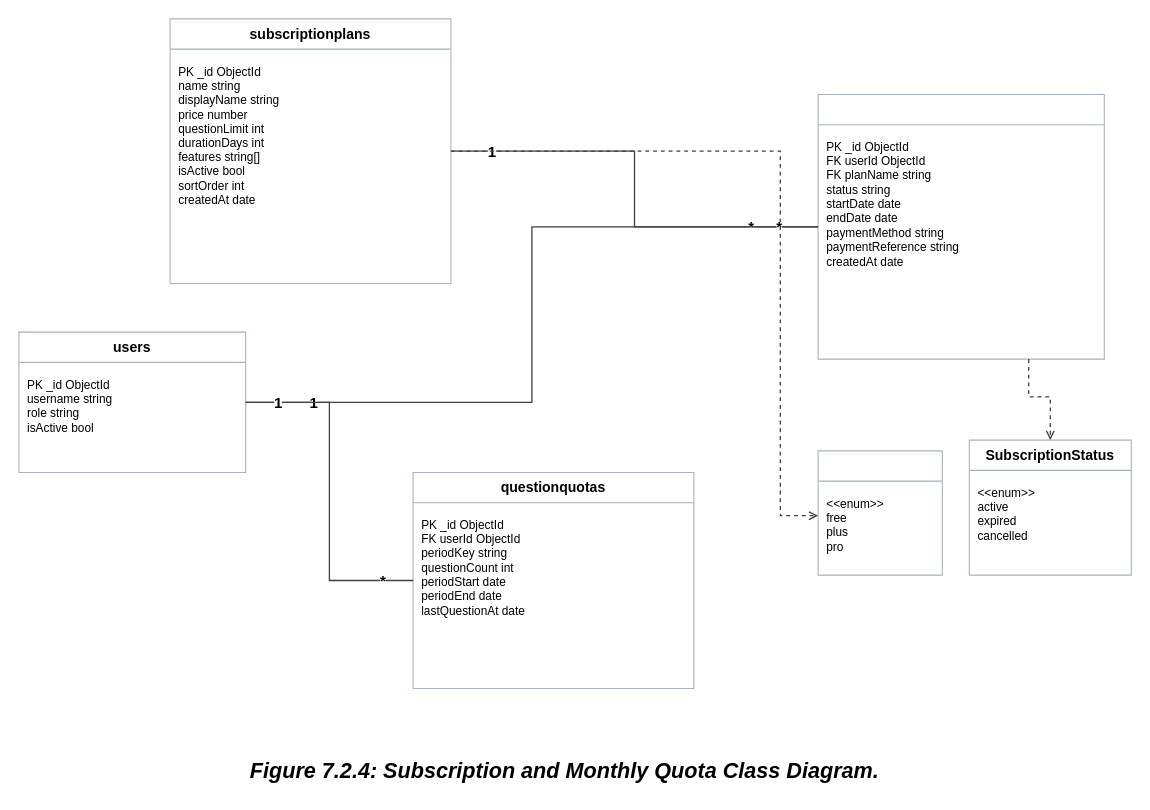
Some shapes in this 1150 by 810 pixel diagram are drawn without their labels. The shapes that lost their labels are listed below. From the top down, each one's box as (x1, y1, x2, y2) in pixels, then its label:
(817, 93, 1104, 359): usersubscriptions
(817, 450, 942, 575): PlanName
